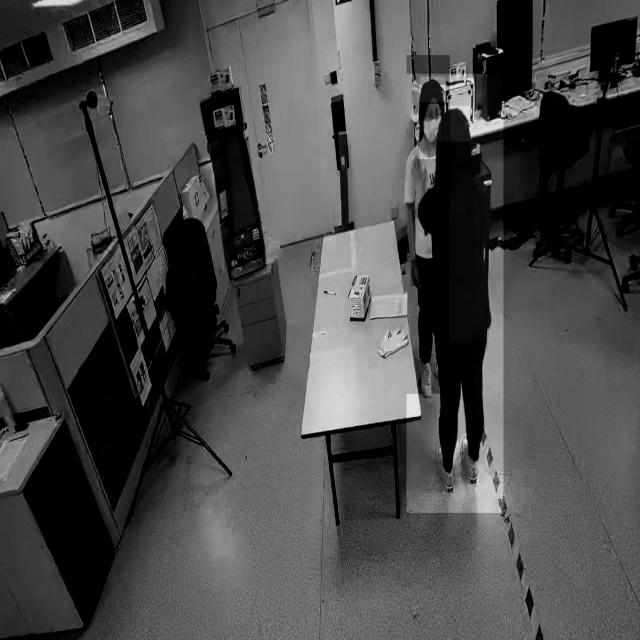face_mask: (419, 104, 442, 159)
hand_noglove: (410, 260, 424, 287)
head_nohelmet: (438, 106, 470, 142), (419, 77, 445, 103)
person: (406, 74, 504, 514), (406, 55, 450, 394)
shoes: (432, 444, 457, 496), (459, 432, 482, 486), (419, 355, 435, 401)
